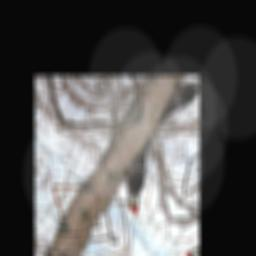Woodpecker: (110, 130, 174, 217)
